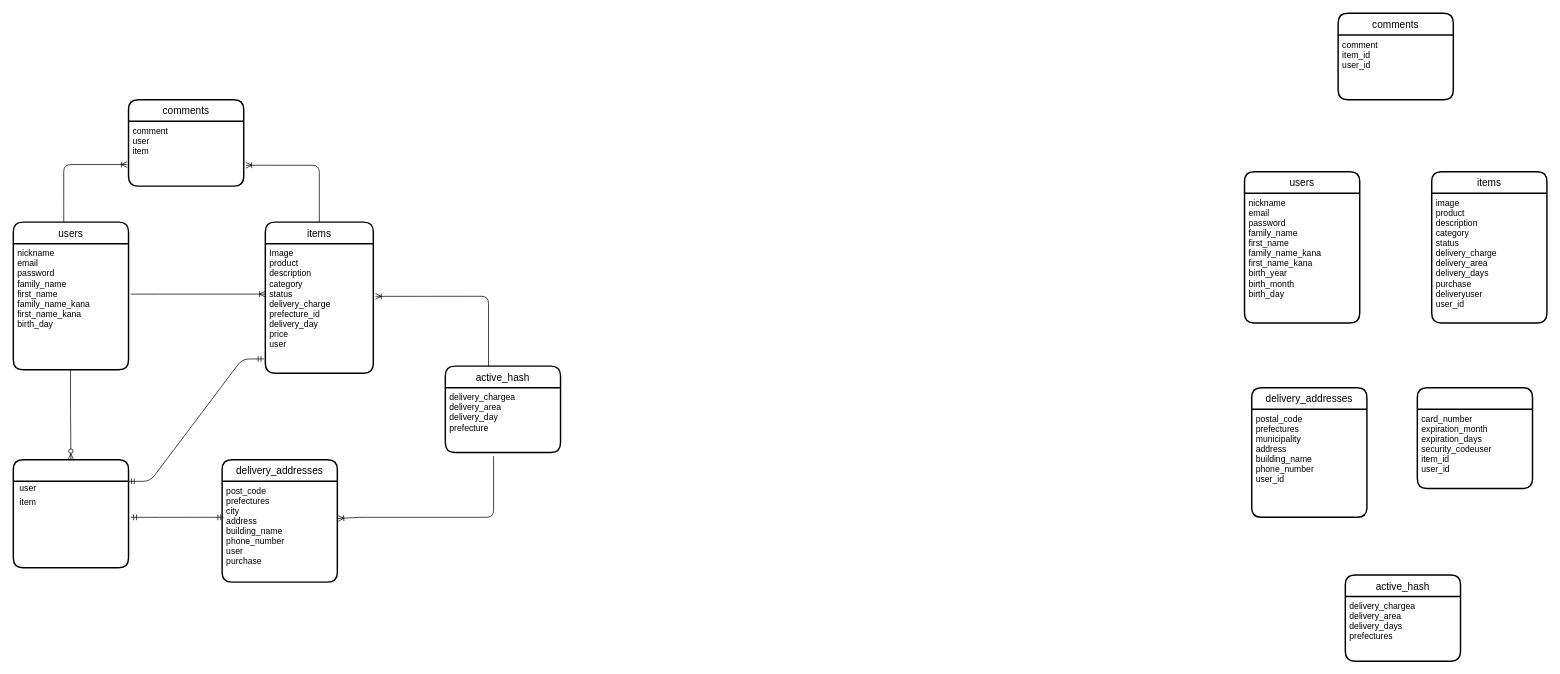
Some shapes in this 1560 by 674 pixel diagram are drawn without their labels. The shapes that lost their labels are listed below. From the top down, each one's box as (x1, y1, x2, y2) in pixels, then its label:
(1416, 387, 1533, 489): purchase
(12, 459, 129, 568): purchases
